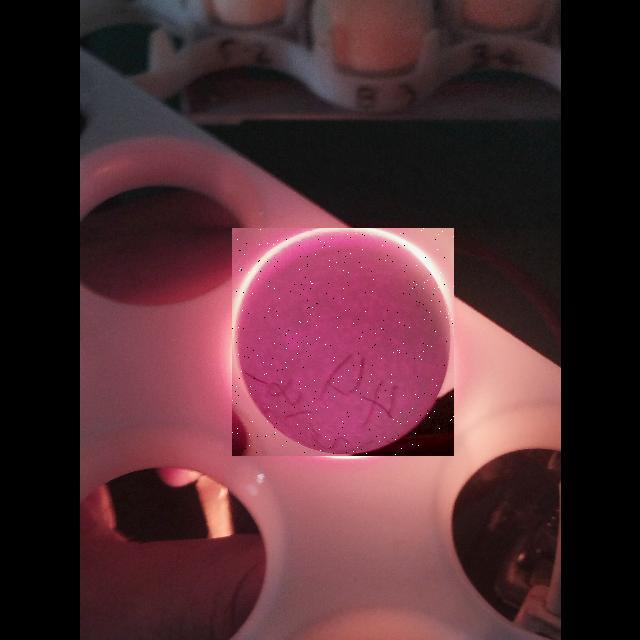Infertile: (232, 228, 454, 456)
